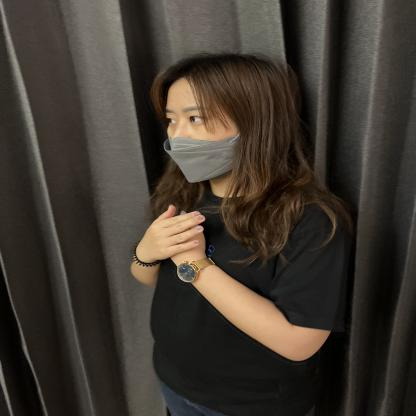Grieve: (91, 198, 259, 289)
